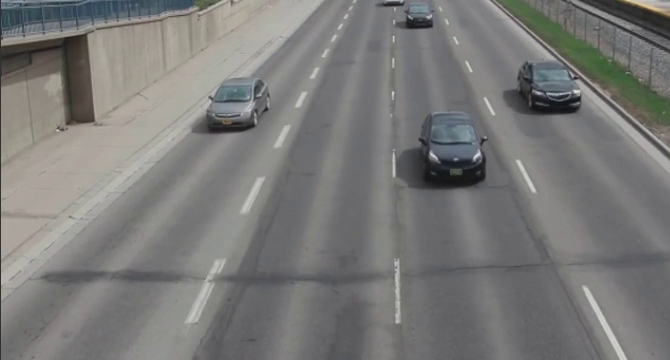car: (416, 102, 491, 189), (202, 75, 273, 129), (516, 62, 587, 116), (400, 1, 442, 34)
